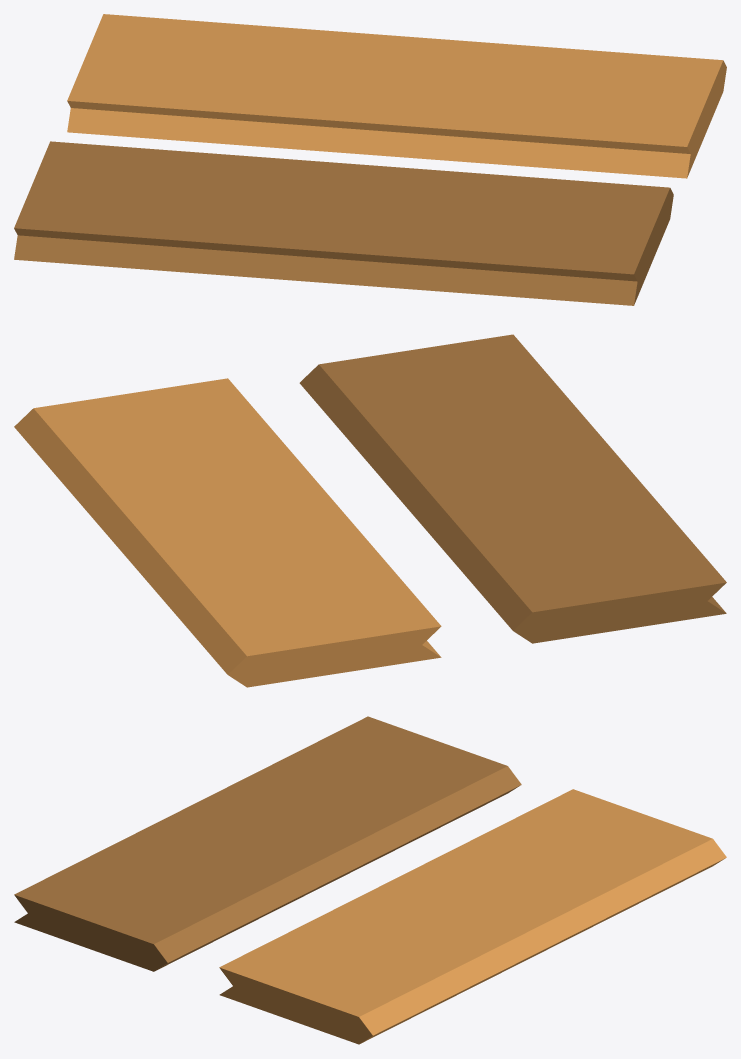
3 views of the same model, one above another, from view 1: azimuth 30°, elevation 25°; view 2: azimuth 150°, elevation 25°; view 3: azimuth 270°, elevation 25° (orthographic). The views are drawn at different scales.
Bounding box in the file's own units: 4.32 × 0.1818 × 4.26.
